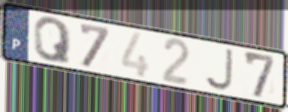2: (160, 37, 193, 88)
4: (119, 31, 152, 81)
7: (242, 50, 278, 100), (77, 21, 111, 71)
J: (202, 47, 235, 93)
Q: (32, 16, 73, 66)
